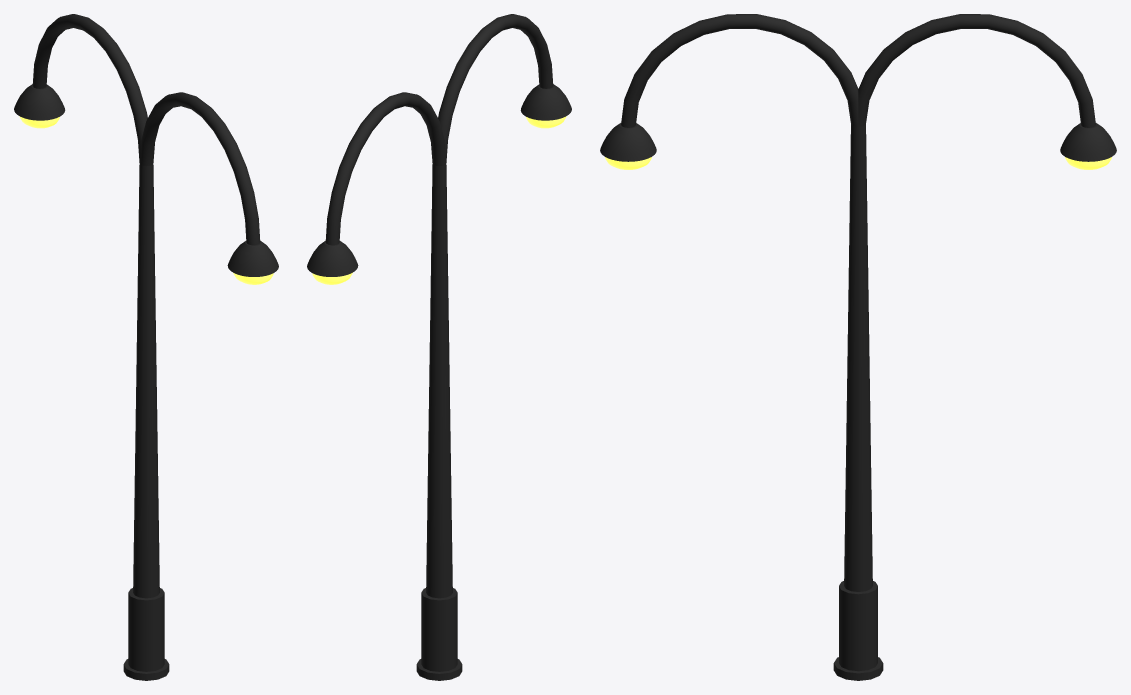
File: FarolaModernaRodonaDe1.008.fbx
3 renders of one model, left to right at view 1: azimuth 30°, elevation 25°; view 2: azimuth 150°, elevation 25°; view 3: azimuth 270°, elevation 25°, orthographic. The views are drawn at different scales.
Parts seen in each view (by area): view 1: FarolaModernaRodonaDe1.008; view 2: FarolaModernaRodonaDe1.008; view 3: FarolaModernaRodonaDe1.008.
Boxes of the visible parts, x1,y1,x2,y2 form: FarolaModernaRodonaDe1.008: (14, 14, 278, 680); FarolaModernaRodonaDe1.008: (307, 14, 571, 680); FarolaModernaRodonaDe1.008: (600, 14, 1116, 680).
Bounding box in the file's own units: 28.82 × 381 × 272.
